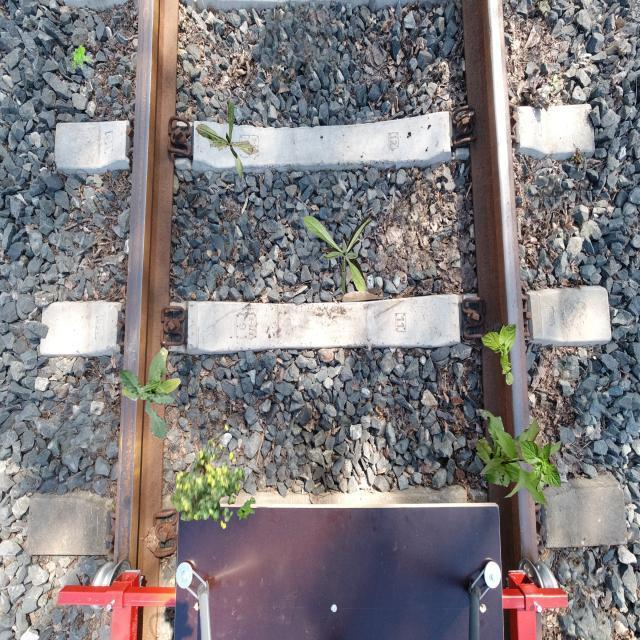Plant: (476, 408, 564, 506), (170, 425, 245, 530), (119, 347, 182, 440), (303, 214, 374, 295), (195, 99, 259, 183), (520, 439, 562, 492), (481, 323, 516, 386), (71, 45, 92, 70), (236, 497, 256, 522)
